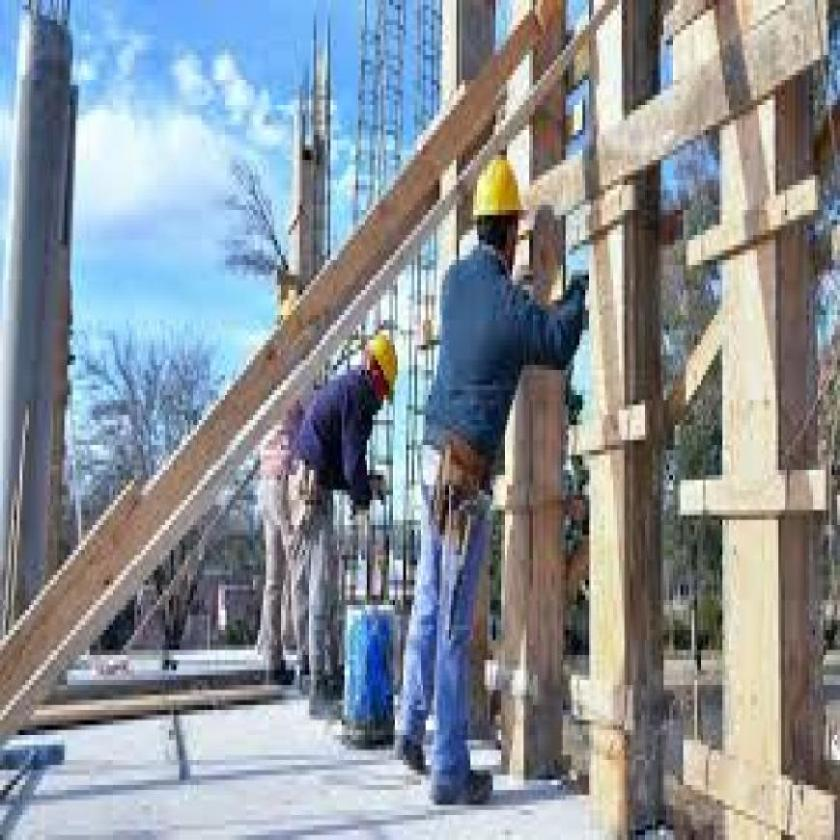Con_casco: (464, 155, 531, 271), (360, 326, 401, 416)
